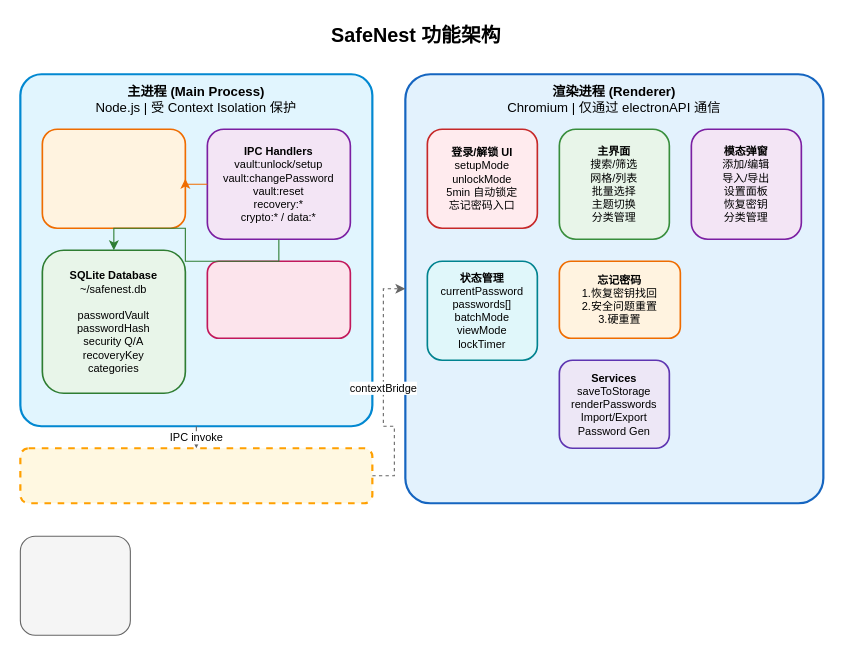
Image size: 843x655. Some labels were removed from this diagram. The centre of each missing label's shape, as x and y in pixels:
"Crypto Service Argon2id 哈希 AES-256-GCM scrypt 密钥派生 内存清零" goes at pixel 113 178.
"Preload Script contextBridge electronAPI" goes at pixel 196 475.
"Window Manager BrowserWindow contextIsolation sandbox: true" goes at pixel 278 299.
"图例 实线 = 直接调用 虚线 = 桥接/边界 橙色 = 加密模块 紫色 = 数据流 红色 = 安全/认证" goes at pixel 74 585.
